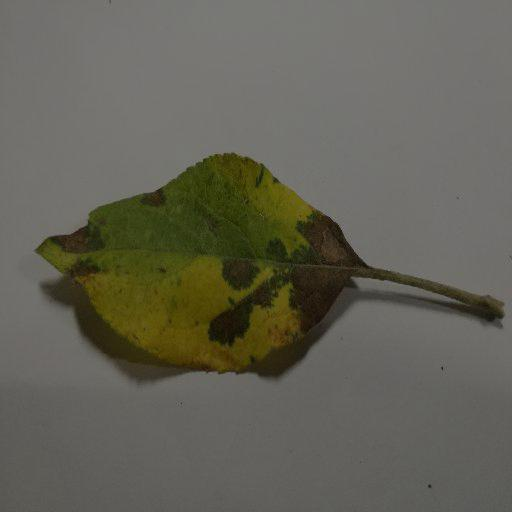Brown_Spot: (287, 203, 356, 330), (48, 215, 110, 290), (210, 299, 272, 349), (218, 249, 258, 289), (139, 183, 179, 216)
